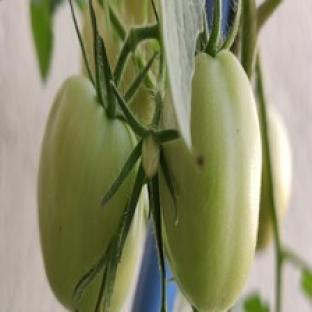Tomato: (161, 51, 261, 311), (38, 77, 136, 311), (267, 106, 291, 220), (94, 2, 122, 66)
